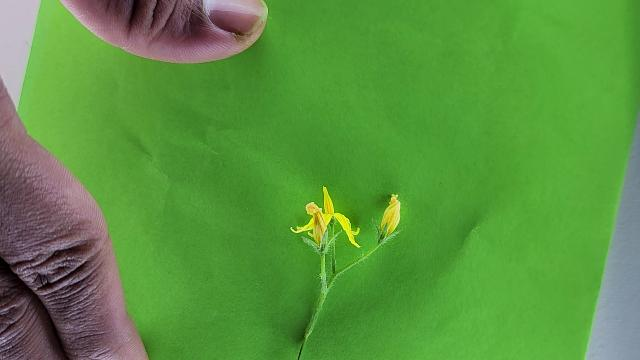Anthesis: (290, 186, 362, 250), (379, 194, 402, 239)
